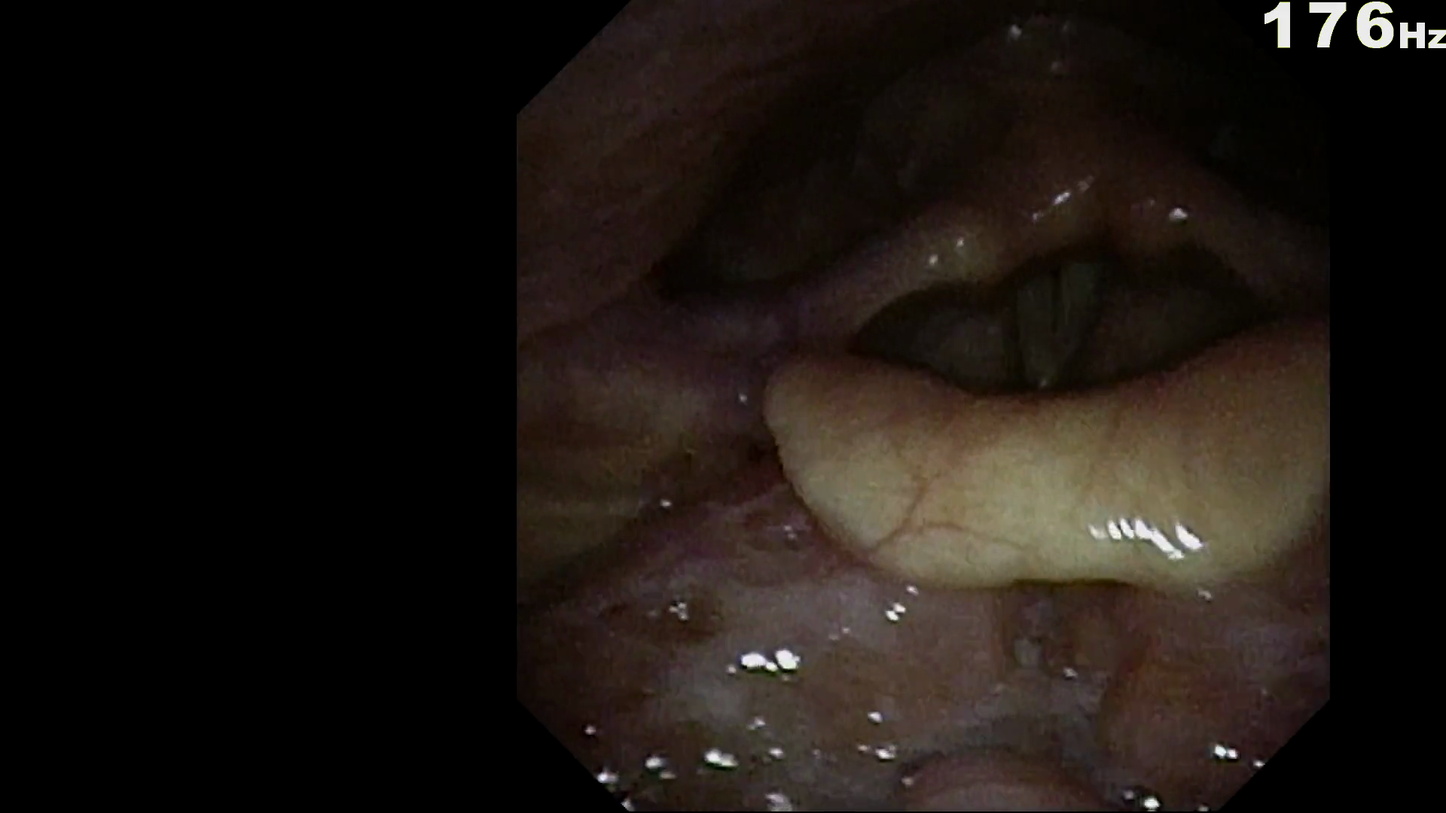epiglottis: (760, 322, 1313, 589)
trachea: (988, 250, 1135, 404)
